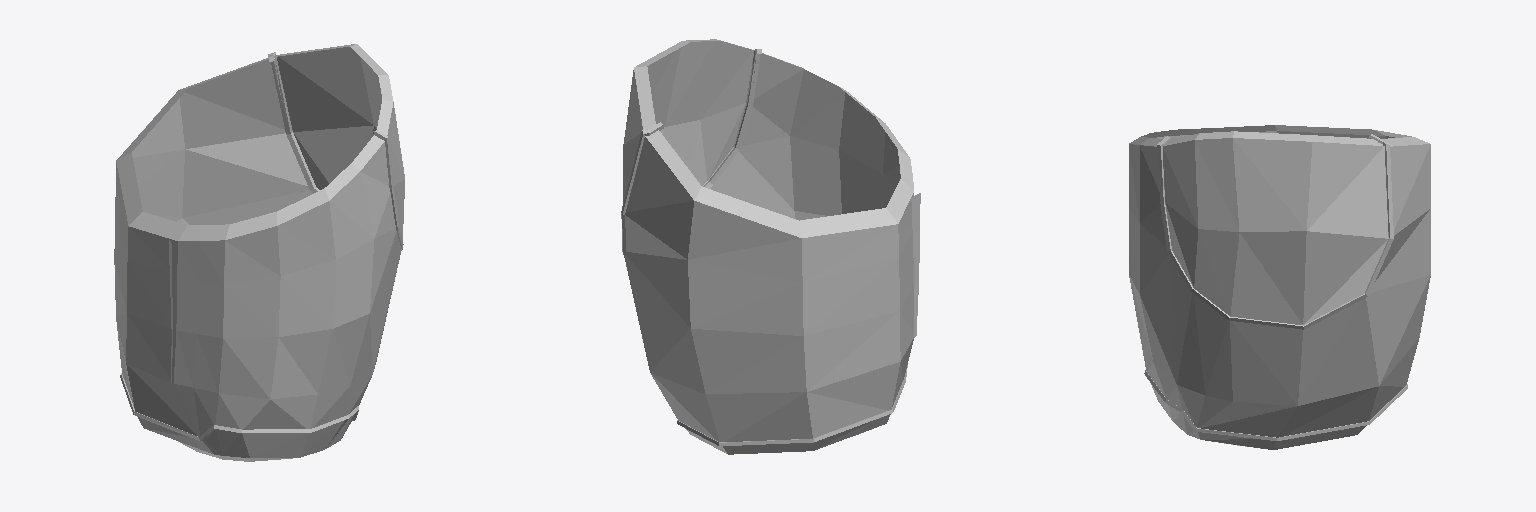
Rendered from baymax_leftleg.obj.
3 views of the same model, side by side, from view 1: azimuth 30°, elevation 25°; view 2: azimuth 150°, elevation 25°; view 3: azimuth 270°, elevation 25° (orthographic).
Parts seen in each view (by area): view 1: Bigmax_White_OBJ; view 2: Bigmax_White_OBJ; view 3: Bigmax_White_OBJ.
Boxes of the visible parts, x1,y1,x2,y2 form: Bigmax_White_OBJ: [114, 44, 404, 461]; Bigmax_White_OBJ: [621, 39, 920, 454]; Bigmax_White_OBJ: [1129, 125, 1430, 449].
Size of the model in its own units: 16.85 by 21.29 by 16.8.